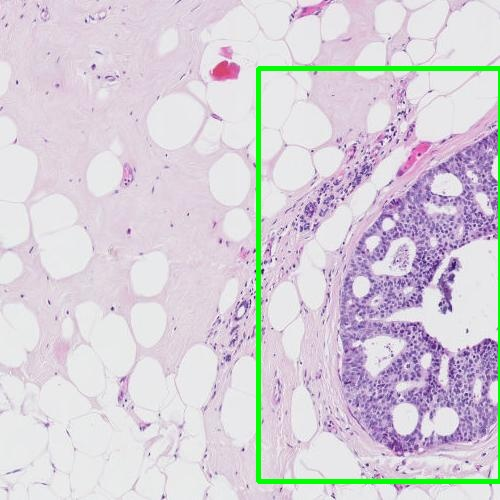DCIS: (258, 68, 500, 481)
